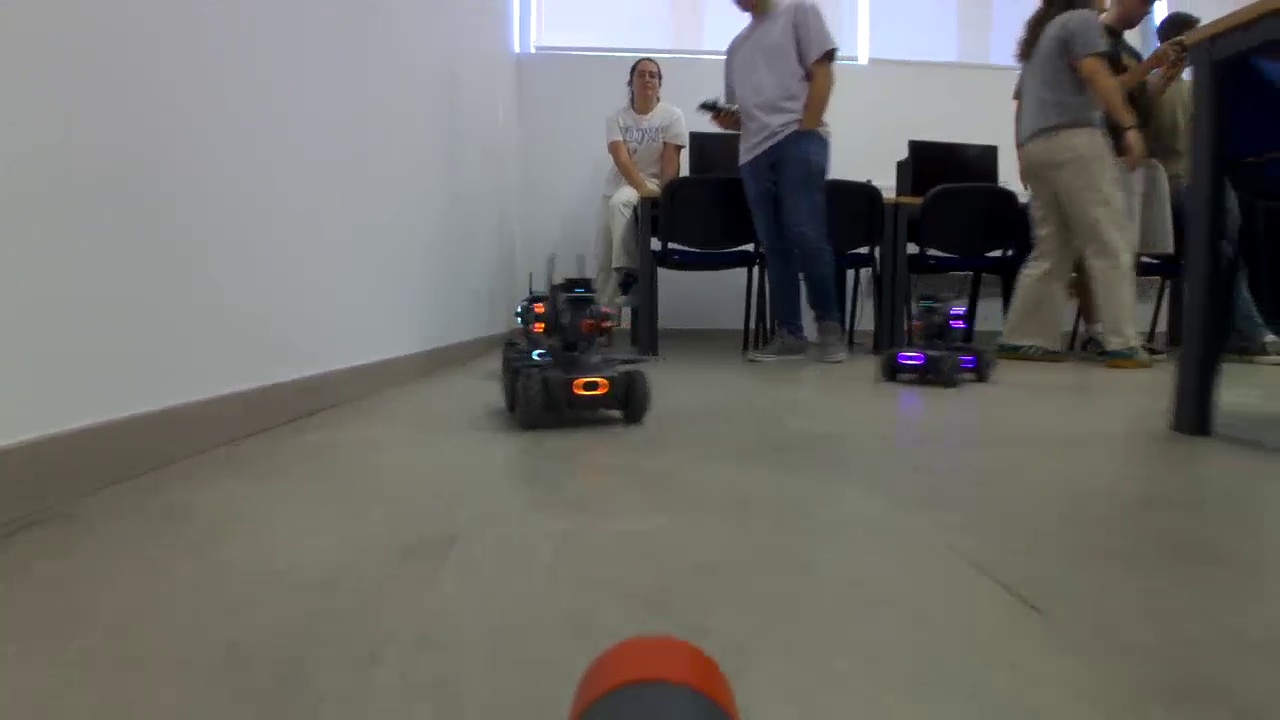robot: (503, 290, 653, 427), (888, 287, 988, 390)
